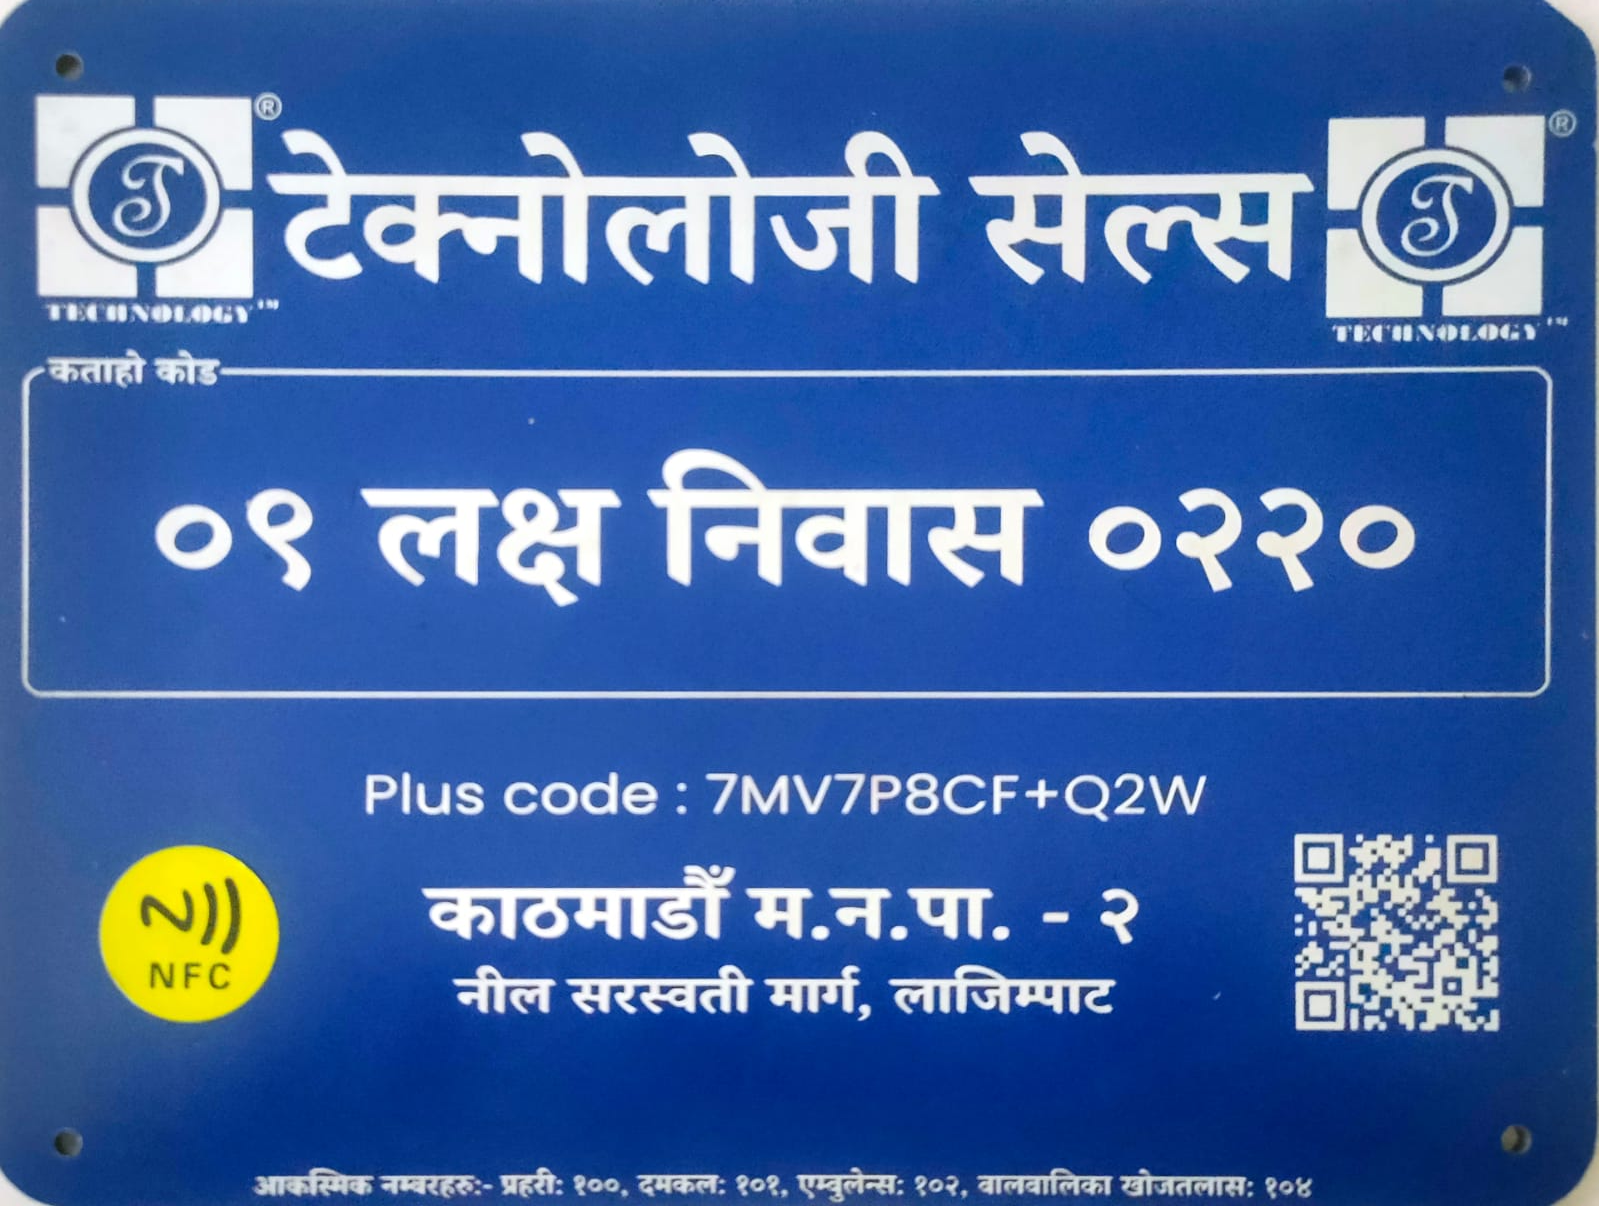Plate: (1, 1, 1599, 1206)
